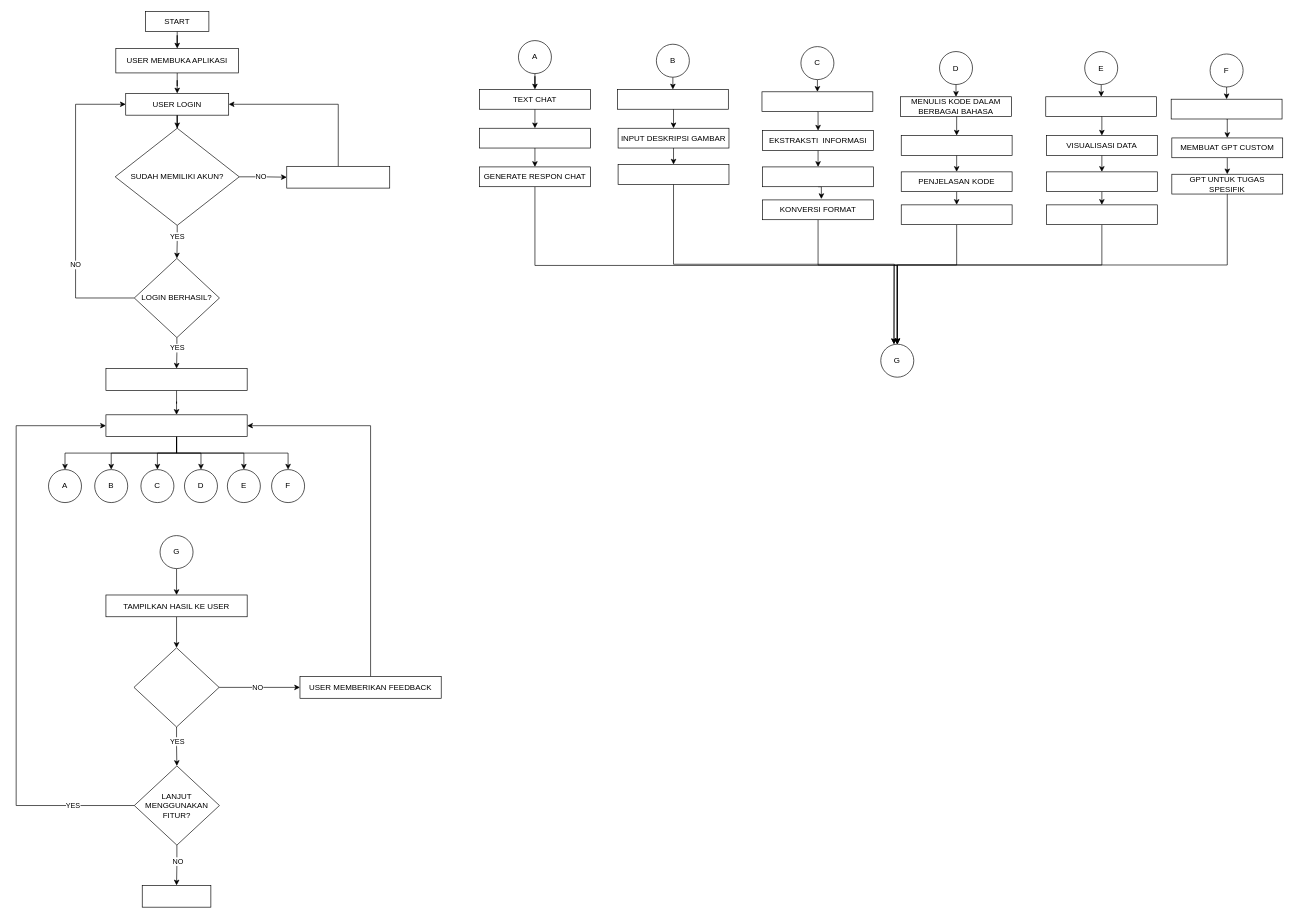
Some shapes in this 1294 by 919 pixel diagram are drawn without their labels. The shapes that lost their labels are listed below. From the top down, each one's box as (x1, y1, x2, y2) in pixels, then its label:
(617, 89, 728, 109): DALL-E IMAGE CREATION
(761, 91, 873, 112): UPLOAD DAN ANALISIS DOKUMEN
(1045, 96, 1157, 117): ANALISIS DATA
(1171, 99, 1282, 119): MENGGUNAKAN GPT KHUSUS
(479, 128, 590, 148): INPUT PROMPT CHAT
(901, 135, 1012, 155): DEBUG KODE
(286, 166, 390, 188): BUAT AKUN
(617, 164, 729, 184): GENERATE GAMBAR
(762, 166, 874, 187): RINGKASAN DOKUMEN
(1046, 171, 1157, 192): INTREPETASI STATISTIK
(901, 204, 1012, 225): OPTIMASI KODE
(1046, 204, 1157, 225): PEMBUATAN LAPORAN
(105, 368, 247, 390): TAMPILKAN ANTARMUKA UTAMA
(105, 414, 247, 437): PILIH FITUR
(133, 647, 219, 727): USER PUAS?
(142, 885, 211, 907): SELESAI
